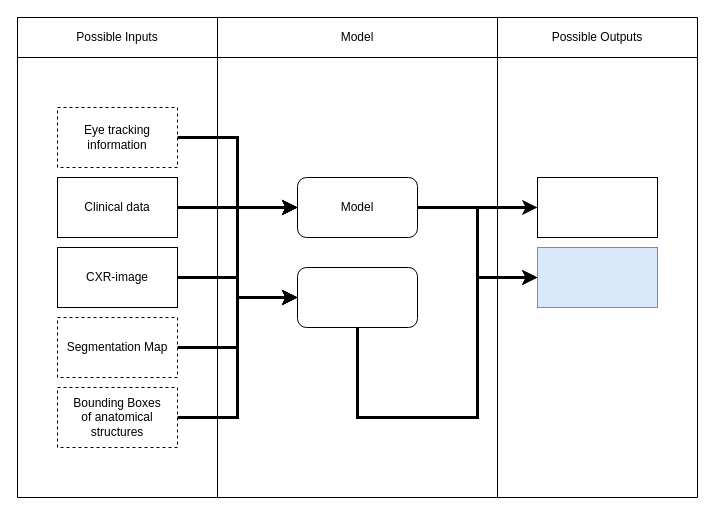
This 715x515 diagram has some shape labels left out. The centre of each missing label's shape, as x and y in pixels:
"Abnormality Detection" goes at (597,277).
"Diagnosis" goes at (597,207).
"Explainer" goes at (357,297).
